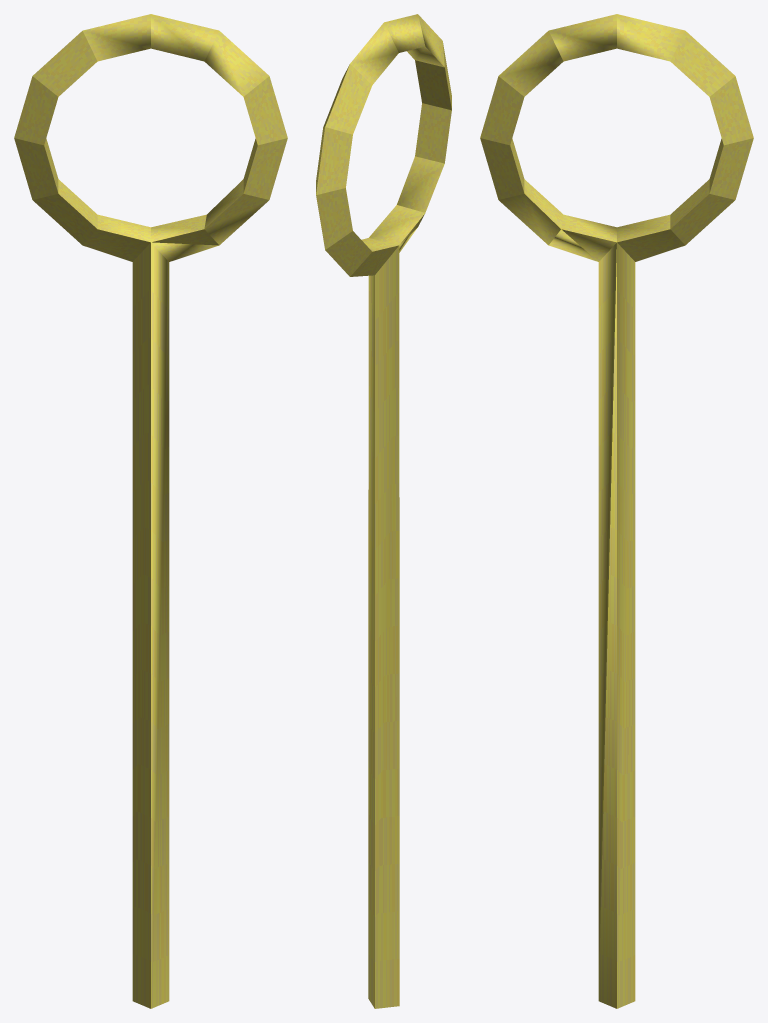
File: QuidGoalMesh.obj
The picture shows the model from 3 angles, left to right: view 1: azimuth 90°, elevation 25°; view 2: azimuth 150°, elevation 25°; view 3: azimuth 270°, elevation 25°; orthographic projection.
Parts seen in each view (by area): view 1: QuidGoalTex0; view 2: QuidGoalTex0; view 3: QuidGoalTex0.
Boxes of the visible parts, x1,y1,x2,y2 form: QuidGoalTex0: (14, 14, 287, 1008); QuidGoalTex0: (316, 14, 451, 1008); QuidGoalTex0: (480, 14, 753, 1008).
Bounding box in the file's own units: 8.49 × 252 × 63.25.
Materials: 1 (1 with a texture image).
